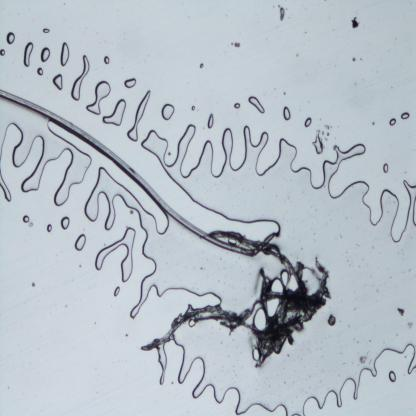Air bubble: (302, 339, 416, 416), (142, 123, 227, 222), (167, 168, 281, 239), (129, 239, 223, 319), (172, 334, 258, 416), (82, 166, 160, 236), (42, 124, 92, 205), (314, 143, 367, 201), (218, 124, 270, 178), (95, 226, 136, 283), (270, 135, 314, 188), (21, 133, 51, 194), (372, 186, 401, 244), (337, 176, 371, 222), (126, 89, 152, 142), (0, 121, 25, 169), (400, 176, 416, 248), (12, 129, 36, 169), (86, 80, 112, 116), (71, 55, 90, 104), (254, 400, 305, 416), (103, 99, 126, 127), (156, 344, 167, 385), (0, 166, 11, 201), (248, 94, 266, 115), (253, 306, 267, 332), (21, 42, 35, 66), (311, 131, 323, 155), (162, 102, 176, 121), (267, 297, 279, 319), (61, 42, 71, 68), (270, 276, 284, 294), (287, 273, 299, 292), (74, 233, 86, 252), (124, 76, 137, 90), (4, 30, 16, 45), (40, 47, 51, 63), (53, 74, 64, 90), (60, 215, 71, 230), (282, 105, 292, 121), (206, 112, 214, 129), (280, 270, 288, 286), (388, 369, 397, 383), (304, 115, 312, 129), (34, 65, 44, 76), (252, 347, 259, 361), (388, 116, 396, 128), (382, 161, 389, 173), (103, 55, 110, 67), (188, 318, 196, 328), (401, 112, 410, 120), (233, 101, 241, 110), (22, 215, 30, 223), (46, 223, 52, 233), (114, 287, 120, 297), (0, 48, 6, 58), (41, 28, 51, 34), (191, 104, 196, 112), (199, 62, 205, 68)
Background material: (322, 123, 334, 142), (277, 4, 287, 21), (395, 305, 406, 319), (350, 15, 360, 30), (228, 38, 240, 50), (359, 354, 369, 364), (407, 322, 413, 331), (130, 208, 135, 218), (28, 222, 34, 229), (30, 282, 36, 288), (371, 119, 375, 128), (352, 56, 357, 63)
Cellulose filter fibre: (139, 224, 331, 354)
Diatom: (328, 314, 336, 326)
Microfibre: (1, 87, 270, 258)
